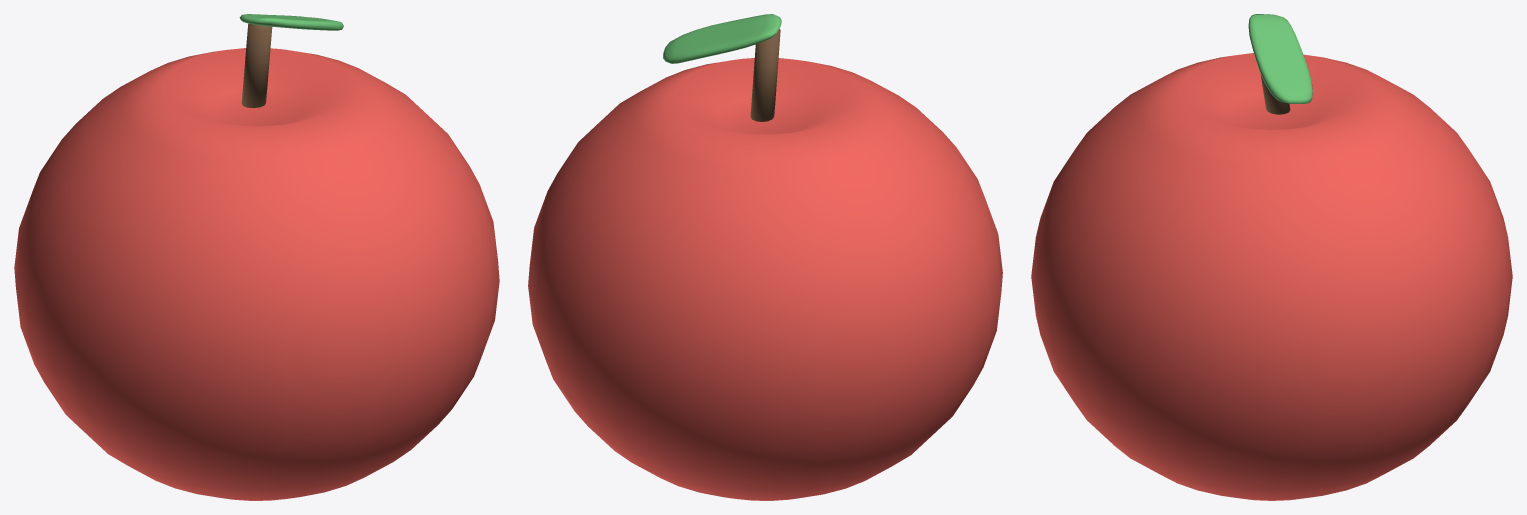
Rendered from apple.fbx.
3 views of the same model, side by side, from view 1: azimuth 30°, elevation 25°; view 2: azimuth 150°, elevation 25°; view 3: azimuth 270°, elevation 25° (orthographic). The views are drawn at different scales.
Parts seen in each view (by area): view 1: Apple, Stem, Leaf; view 2: Apple, Leaf, Stem; view 3: Apple, Leaf.
Boxes of the visible parts, x1,y1,x2,y2 form: Apple: (14, 48, 499, 500); Stem: (241, 23, 272, 108); Leaf: (239, 14, 343, 30); Apple: (528, 58, 1002, 500); Leaf: (663, 14, 781, 63); Stem: (750, 29, 780, 121); Apple: (1031, 53, 1512, 500); Leaf: (1248, 14, 1312, 103).
Size of the model in its own units: 200 by 204 by 200.
